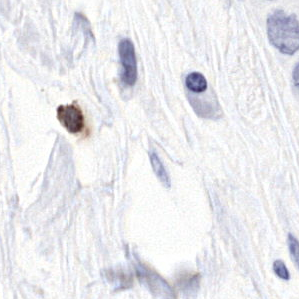Lymphocyte: (56, 104, 89, 133)
